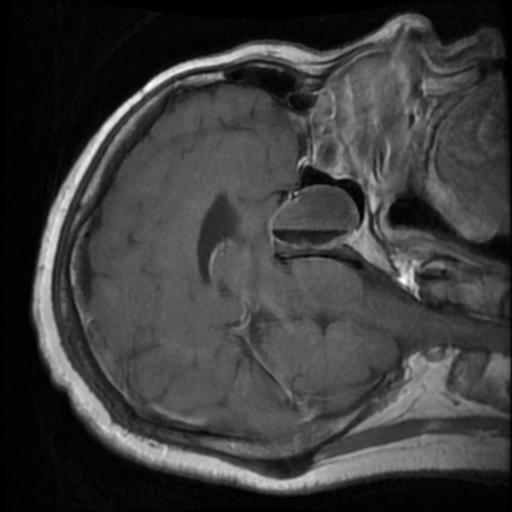pituitary tumour: (269, 184, 361, 252)
